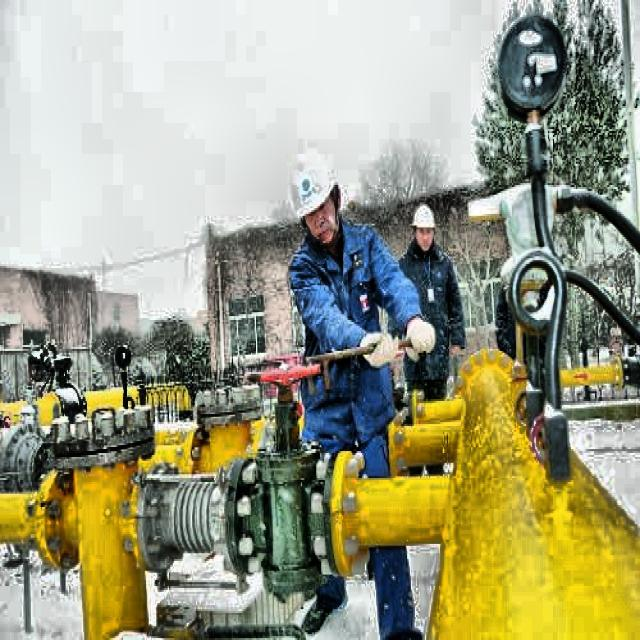helmet: (292, 148, 338, 252), (408, 200, 438, 252)
